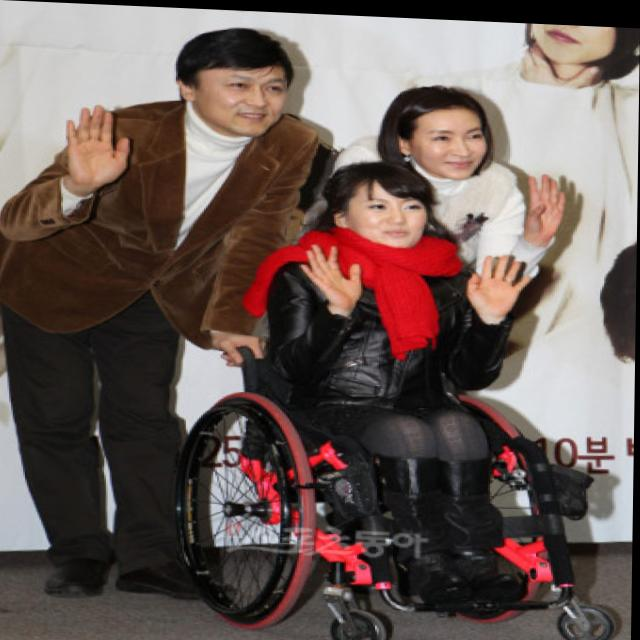wheelchair: (180, 149, 624, 640)
